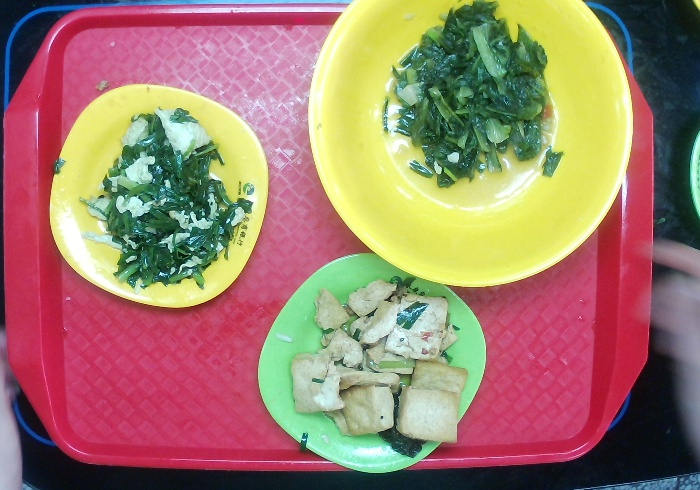YKMZ-Huang_Se_Fang_Die: (47, 82, 272, 313)
YKMZ-Huang_Se_Tang_Wan: (304, 1, 634, 291)
YKMZ-Lv_Se_Fang_Die: (255, 250, 490, 477)
